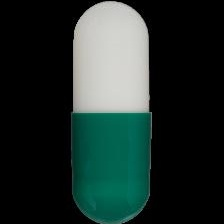61786-944: (0, 0, 224, 224)
